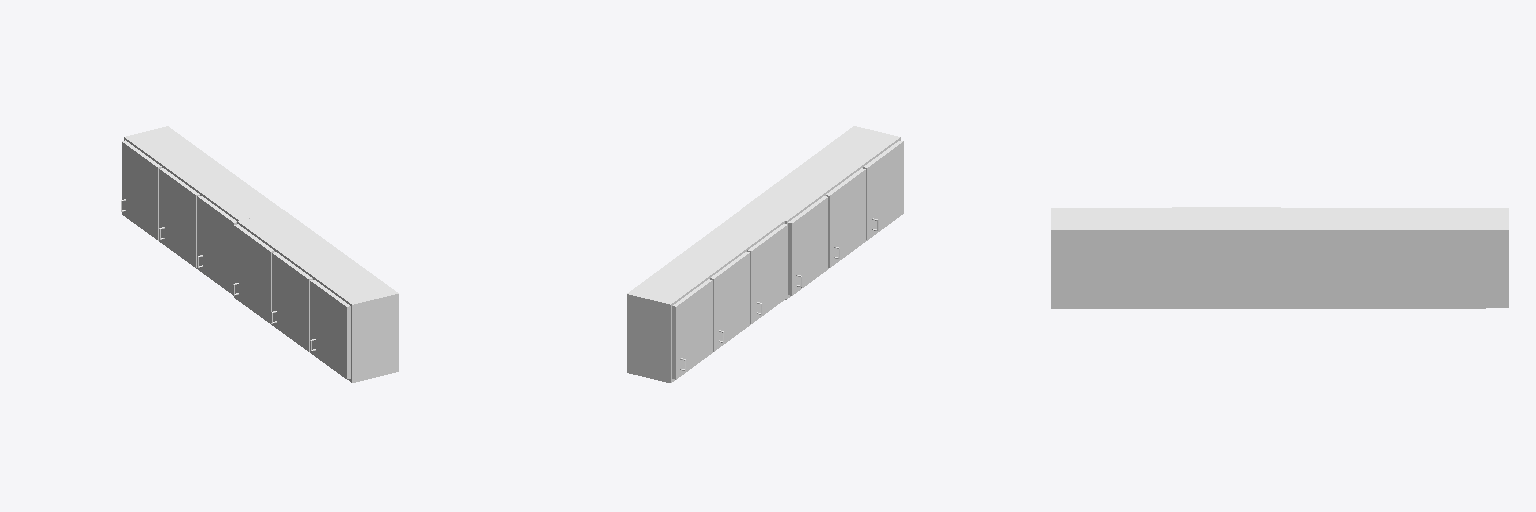
The model's file is right_ec_m2.obj.
The picture shows the model from 3 angles: view 1: azimuth 30°, elevation 25°; view 2: azimuth 150°, elevation 25°; view 3: azimuth 270°, elevation 25°; orthographic projection.
Visible parts, largest first — view 1: cabinet2_handle3.001_Mesh.007; view 2: cabinet2_handle3.001_Mesh.007; view 3: cabinet2_handle3.001_Mesh.007.
Part boxes in pixels (x1,y1,x2,y2): cabinet2_handle3.001_Mesh.007: (121, 126, 398, 382); cabinet2_handle3.001_Mesh.007: (627, 126, 903, 382); cabinet2_handle3.001_Mesh.007: (1051, 207, 1508, 308).
Bounding box in the file's own units: 202 × 268 × 1413.